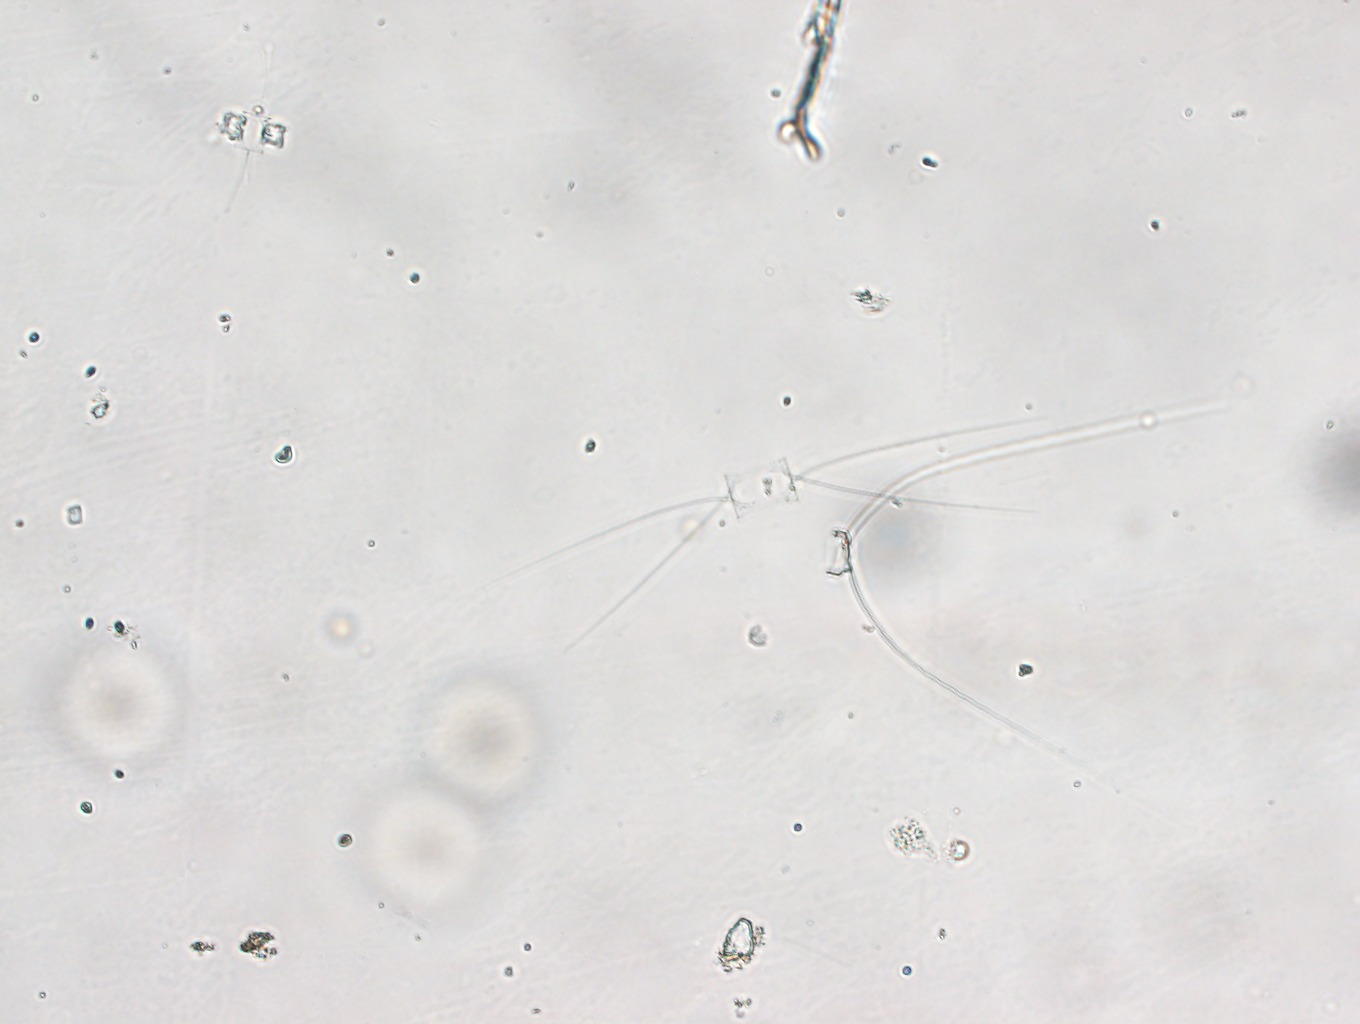chaetoceros: (500, 410, 1053, 665)
